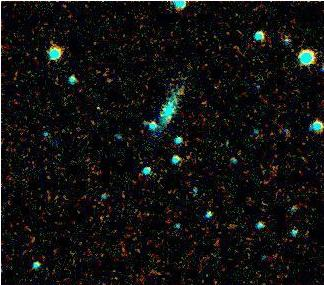star: (80, 88, 110, 118)
